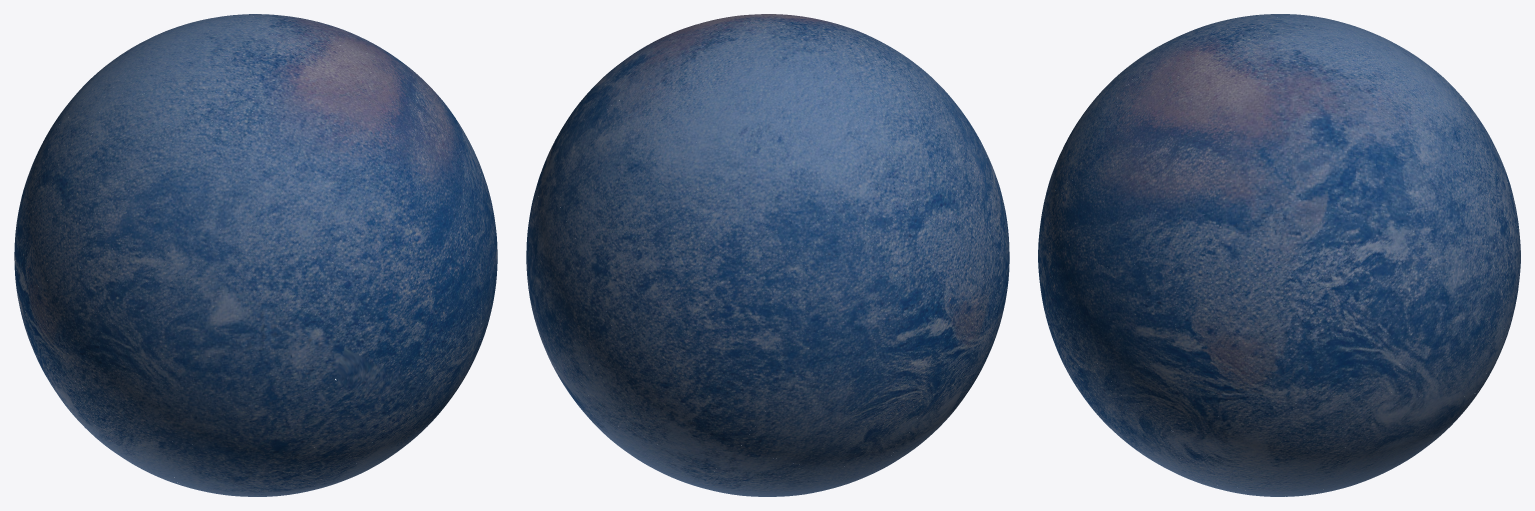
File: planet_earth.glb
The picture shows the model from 3 angles, left to right: view 1: azimuth 30°, elevation 25°; view 2: azimuth 150°, elevation 25°; view 3: azimuth 270°, elevation 25°; orthographic projection.
Visible parts, largest first — view 1: tripo_node_38a8e3c2-a9fd-4350-9bae-18ef89474695; view 2: tripo_node_38a8e3c2-a9fd-4350-9bae-18ef89474695; view 3: tripo_node_38a8e3c2-a9fd-4350-9bae-18ef89474695.
Boxes of the visible parts, box(x1,y1,x2,y2) form: tripo_node_38a8e3c2-a9fd-4350-9bae-18ef89474695: box(14, 14, 497, 496); tripo_node_38a8e3c2-a9fd-4350-9bae-18ef89474695: box(526, 14, 1009, 496); tripo_node_38a8e3c2-a9fd-4350-9bae-18ef89474695: box(1038, 14, 1520, 496).
Size of the model in its own units: 0.9789 by 0.9778 by 0.9787.
Materials: 1 (1 with a texture image).
